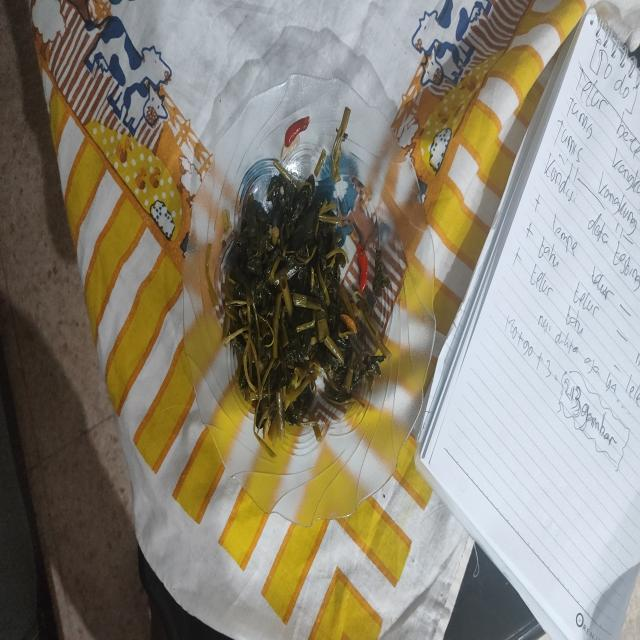tumis_kangkung: (224, 172, 388, 432)
